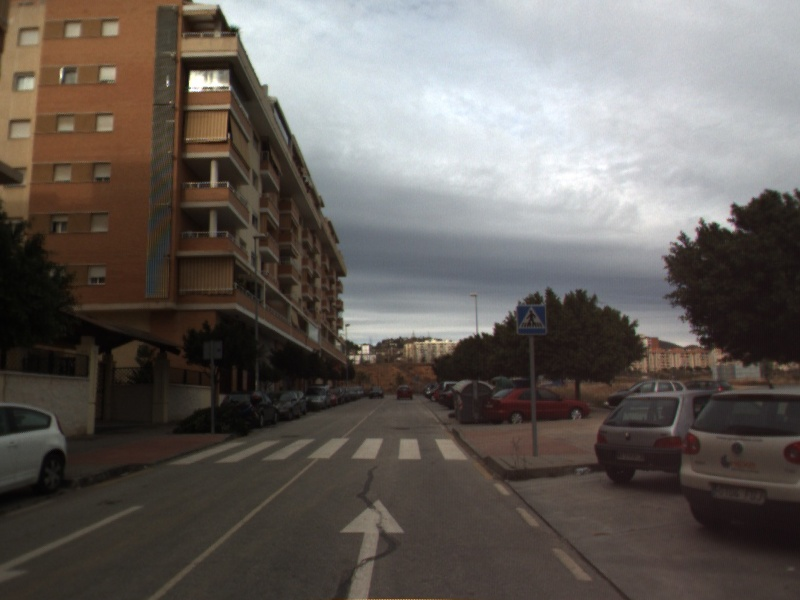STRAIGHT: (337, 497, 407, 600)
